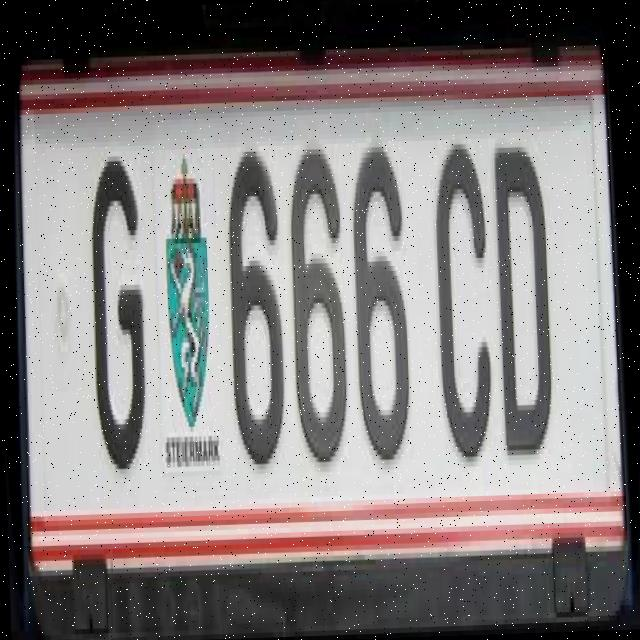Autre: (16, 72, 626, 536)
